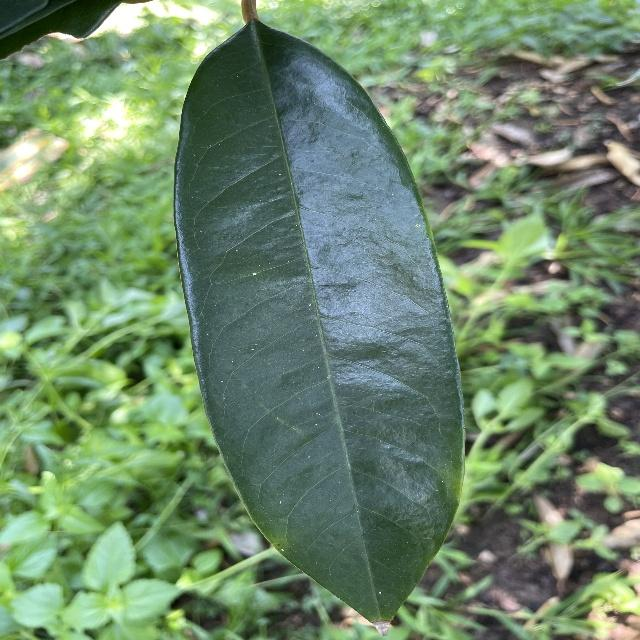No Disease: (165, 13, 481, 640)
